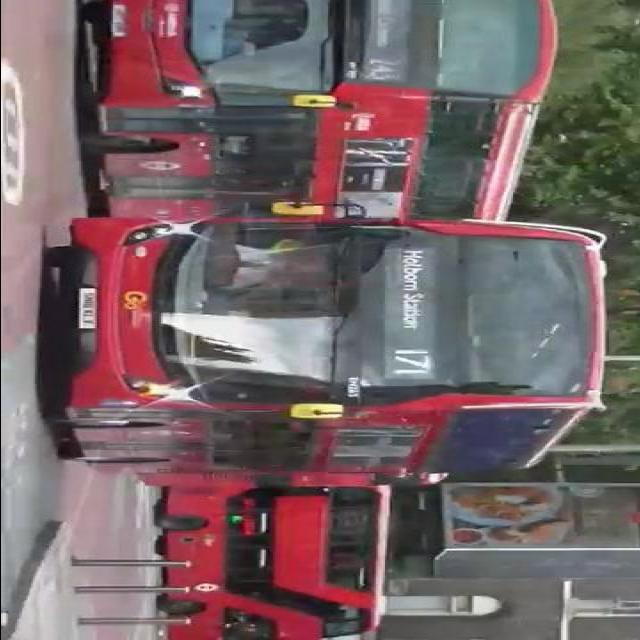bus: (74, 224, 579, 494), (71, 1, 581, 223), (166, 491, 388, 640)
